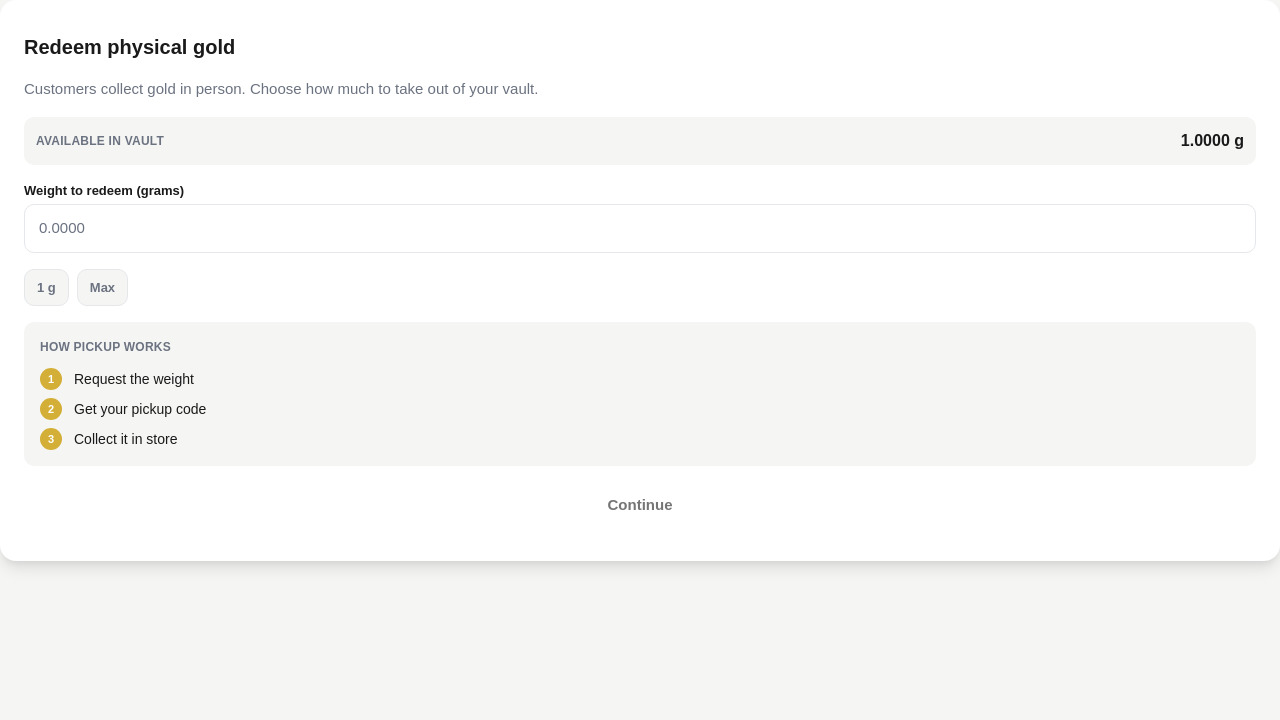
Scenario: RedeemFlow › rejects more than the vault holds
This screenshot has width=1280, height=720.
In the field labelled "Weight to redeem (grams)": (640, 228) x1=37 y1=205 x2=1243 y2=252, type "1.5"
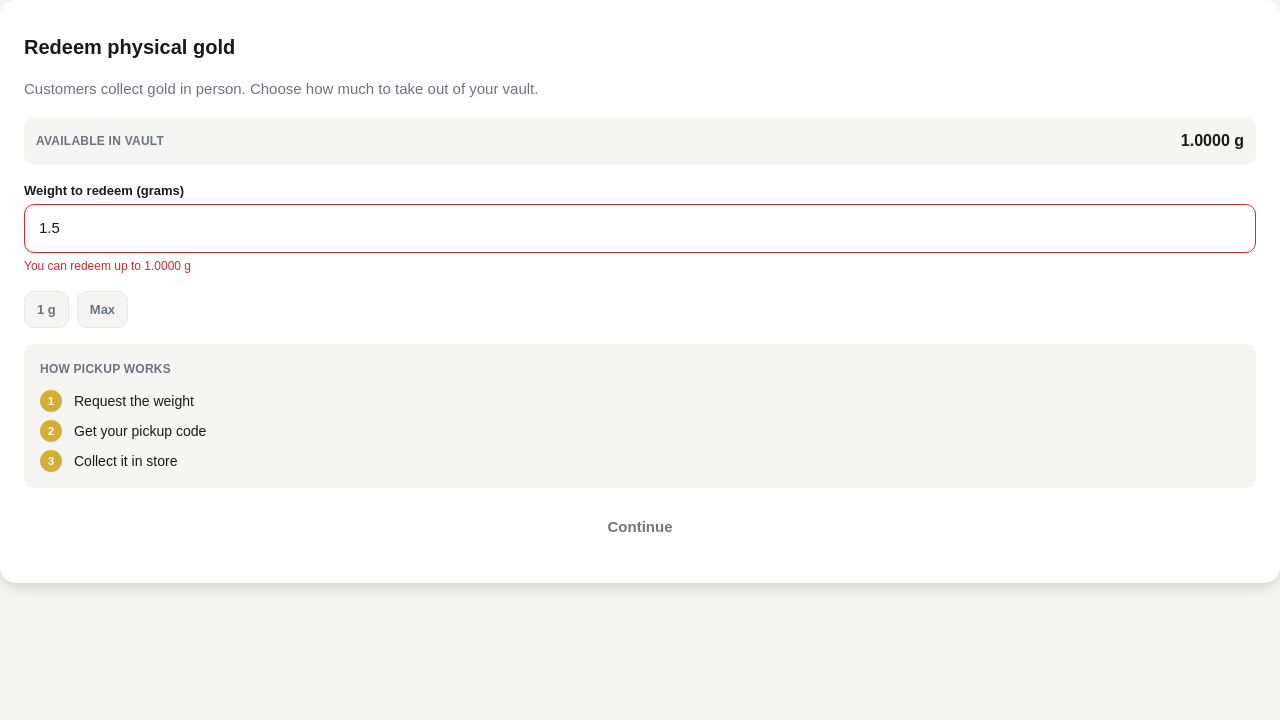
expect the button "Continue" is disabled: met, box x1=24 y1=504 x2=1256 y2=550
expect the text "You can redeem up to 1.0000 g" is shown: met, box x1=24 y1=258 x2=191 y2=272
